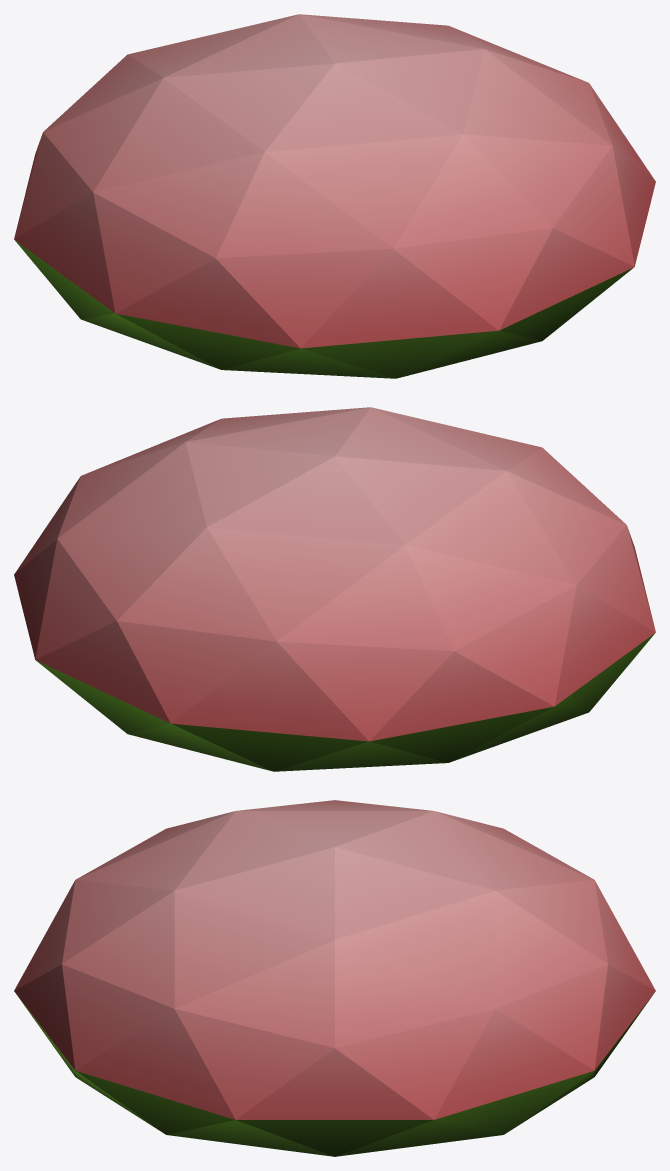
Rendered from WideBush_Pink.fbx.
3 renders of one model, top to bottom at view 1: azimuth 30°, elevation 25°; view 2: azimuth 150°, elevation 25°; view 3: azimuth 270°, elevation 25°, orthographic. The views are drawn at different scales.
Parts seen in each view (by area): view 1: WideBush_Pink; view 2: WideBush_Pink; view 3: WideBush_Pink.
Boxes of the visible parts, x1,y1,x2,y2 form: WideBush_Pink: [14, 14, 655, 378]; WideBush_Pink: [14, 407, 655, 771]; WideBush_Pink: [14, 800, 655, 1156].
Bounding box in the file's own units: 470 × 165 × 494.
